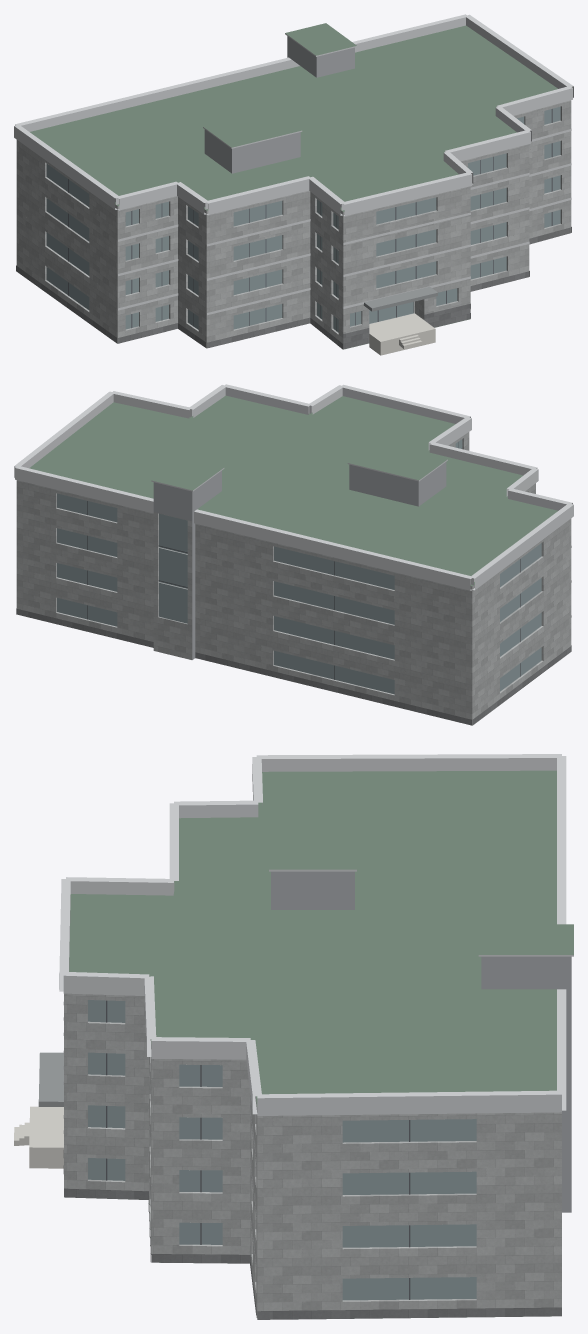
3 renders of one model, top to bottom at view 1: azimuth 30°, elevation 25°; view 2: azimuth 150°, elevation 25°; view 3: azimuth 270°, elevation 25°, orthographic. The views are drawn at different scales.
Visible parts, largest first — view 1: b125__wall, b125__roof, b125__trim, b125__glass, b125__wall2, b125__base, b125__entranceStair, b125__frame, b125__canopy; view 2: b125__wall, b125__roof, b125__trim, b125__glass, b125__wall2, b125__base; view 3: b125__roof, b125__wall, b125__trim, b125__glass, b125__wall2, b125__base, b125__entranceStair, b125__canopy.
Boxes of the visible parts, box(x1,y1,x2,y2) form: b125__wall: box(16, 100, 571, 348); b125__roof: box(30, 23, 557, 349); b125__trim: box(14, 14, 573, 315); b125__glass: box(46, 106, 560, 332); b125__wall2: box(204, 36, 354, 173); b125__base: box(16, 227, 571, 349); b125__entranceStair: box(369, 313, 435, 355); b125__frame: box(68, 109, 552, 331); b125__canopy: box(363, 286, 437, 311); b125__wall: box(16, 432, 571, 725); b125__roof: box(29, 395, 558, 725); b125__trim: box(14, 384, 573, 617); b125__glass: box(57, 439, 541, 694); b125__wall2: box(153, 462, 446, 659); b125__base: box(16, 608, 571, 725); b125__roof: box(69, 770, 573, 1319); b125__wall: box(64, 993, 561, 1317); b125__trim: box(59, 754, 573, 1268); b125__glass: box(88, 1000, 476, 1300); b125__wall2: box(271, 871, 571, 1212); b125__base: box(63, 1150, 561, 1319); b125__entranceStair: box(14, 1106, 63, 1168); b125__canopy: box(38, 1052, 63, 1106).
Size of the model in its own units: 50.47 by 18.07 by 34.7.
Materials: 10 (2 with a texture image).
